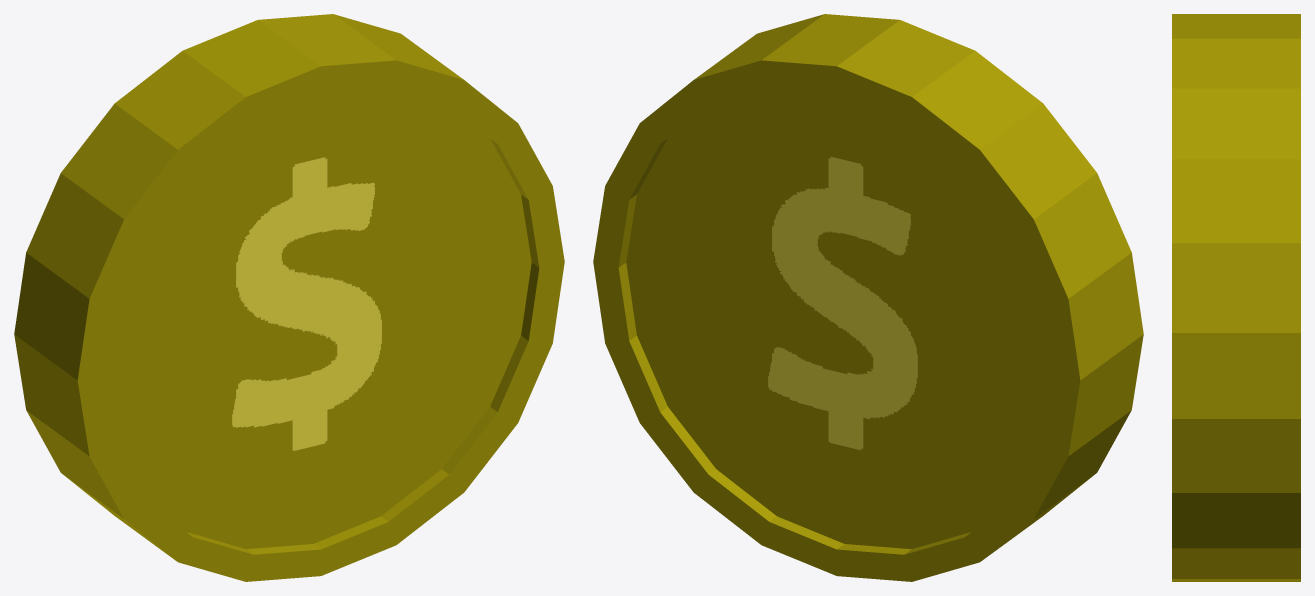
The model's file is MonedaLP_2.fbx.
3 renders of one model, left to right at view 1: azimuth 30°, elevation 25°; view 2: azimuth 150°, elevation 25°; view 3: azimuth 270°, elevation 25°, orthographic.
Parts seen in each view (by area): view 1: Cylinder.001; view 2: Cylinder.001; view 3: Cylinder.001.
Part boxes in pixels (<box>): Cylinder.001: <box>14,14,564,581</box>; Cylinder.001: <box>593,14,1143,581</box>; Cylinder.001: <box>1172,14,1300,581</box>.
Bounding box in the file's own units: 200 × 200 × 45.08.
1 material, 1 textured.
